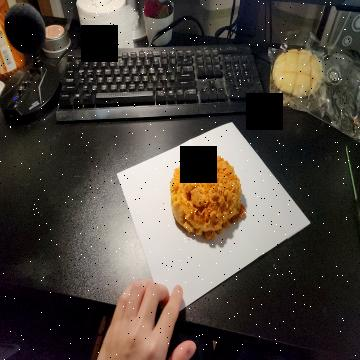soboru_bread: (171, 156, 246, 241)
